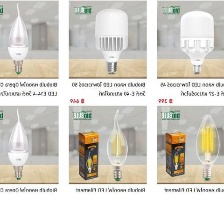carton: (75, 128, 102, 181), (163, 128, 187, 179)
light_bulb: (177, 7, 217, 76), (91, 6, 130, 76), (5, 106, 32, 183), (6, 0, 32, 75), (104, 107, 130, 182), (194, 113, 221, 180)
